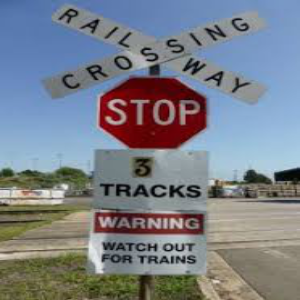STOP_SIGN: (97, 74, 208, 152)
